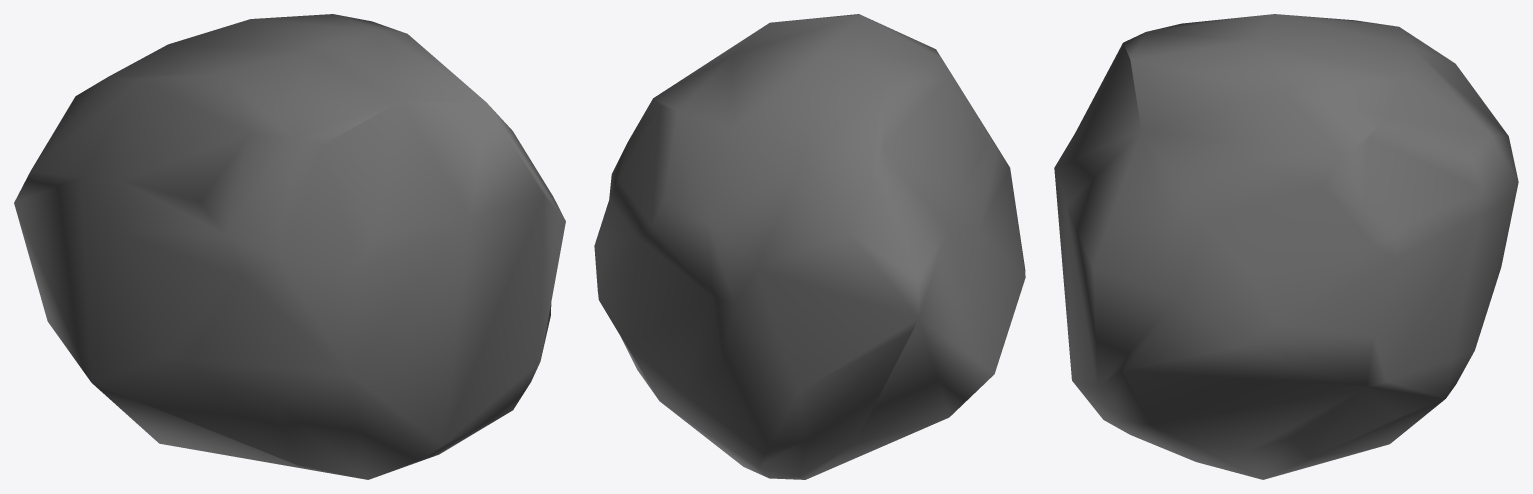
File: Rock_1.glb
3 renders of one model, left to right at view 1: azimuth 30°, elevation 25°; view 2: azimuth 150°, elevation 25°; view 3: azimuth 270°, elevation 25°, orthographic. The views are drawn at different scales.
Parts seen in each view (by area): view 1: Rock_1; view 2: Rock_1; view 3: Rock_1.
Part boxes in pixels (bbox=[...]): Rock_1: bbox=[14, 14, 565, 479]; Rock_1: bbox=[594, 14, 1025, 479]; Rock_1: bbox=[1054, 14, 1518, 479].
Size of the model in its own units: 0.3479 by 0.3273 by 0.3434.
Materials: 1 (1 with a texture image).
